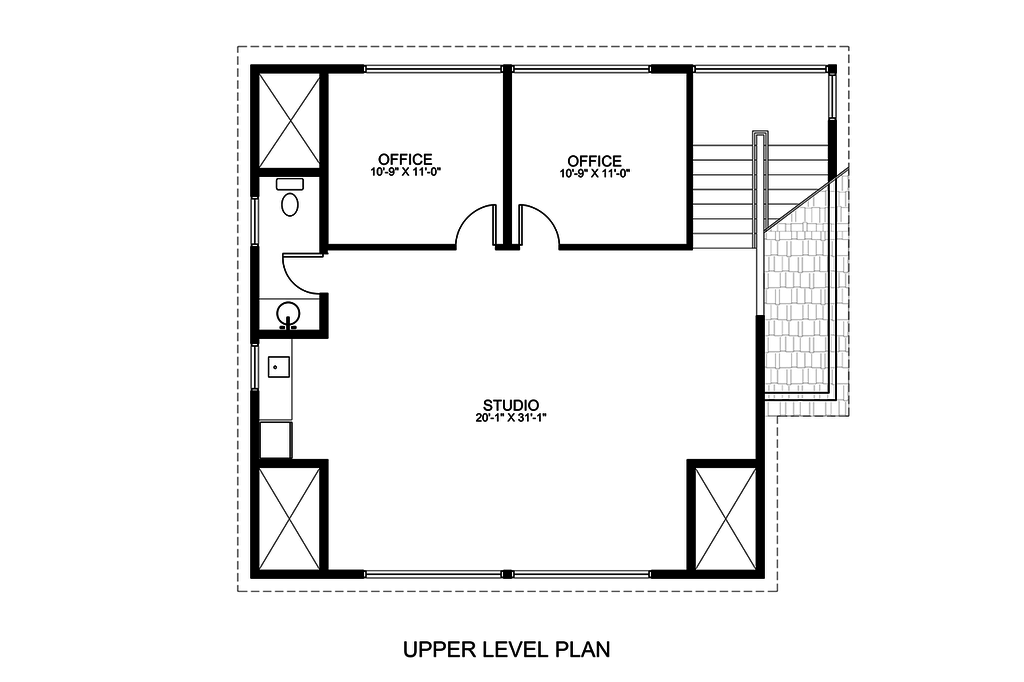door: (445, 196, 503, 252), (512, 199, 564, 253), (280, 245, 326, 297)
large_sink: (272, 174, 308, 218)
small_sink: (257, 296, 323, 335)
stairs: (683, 67, 836, 250)
window: (249, 337, 265, 389), (247, 197, 263, 248)
